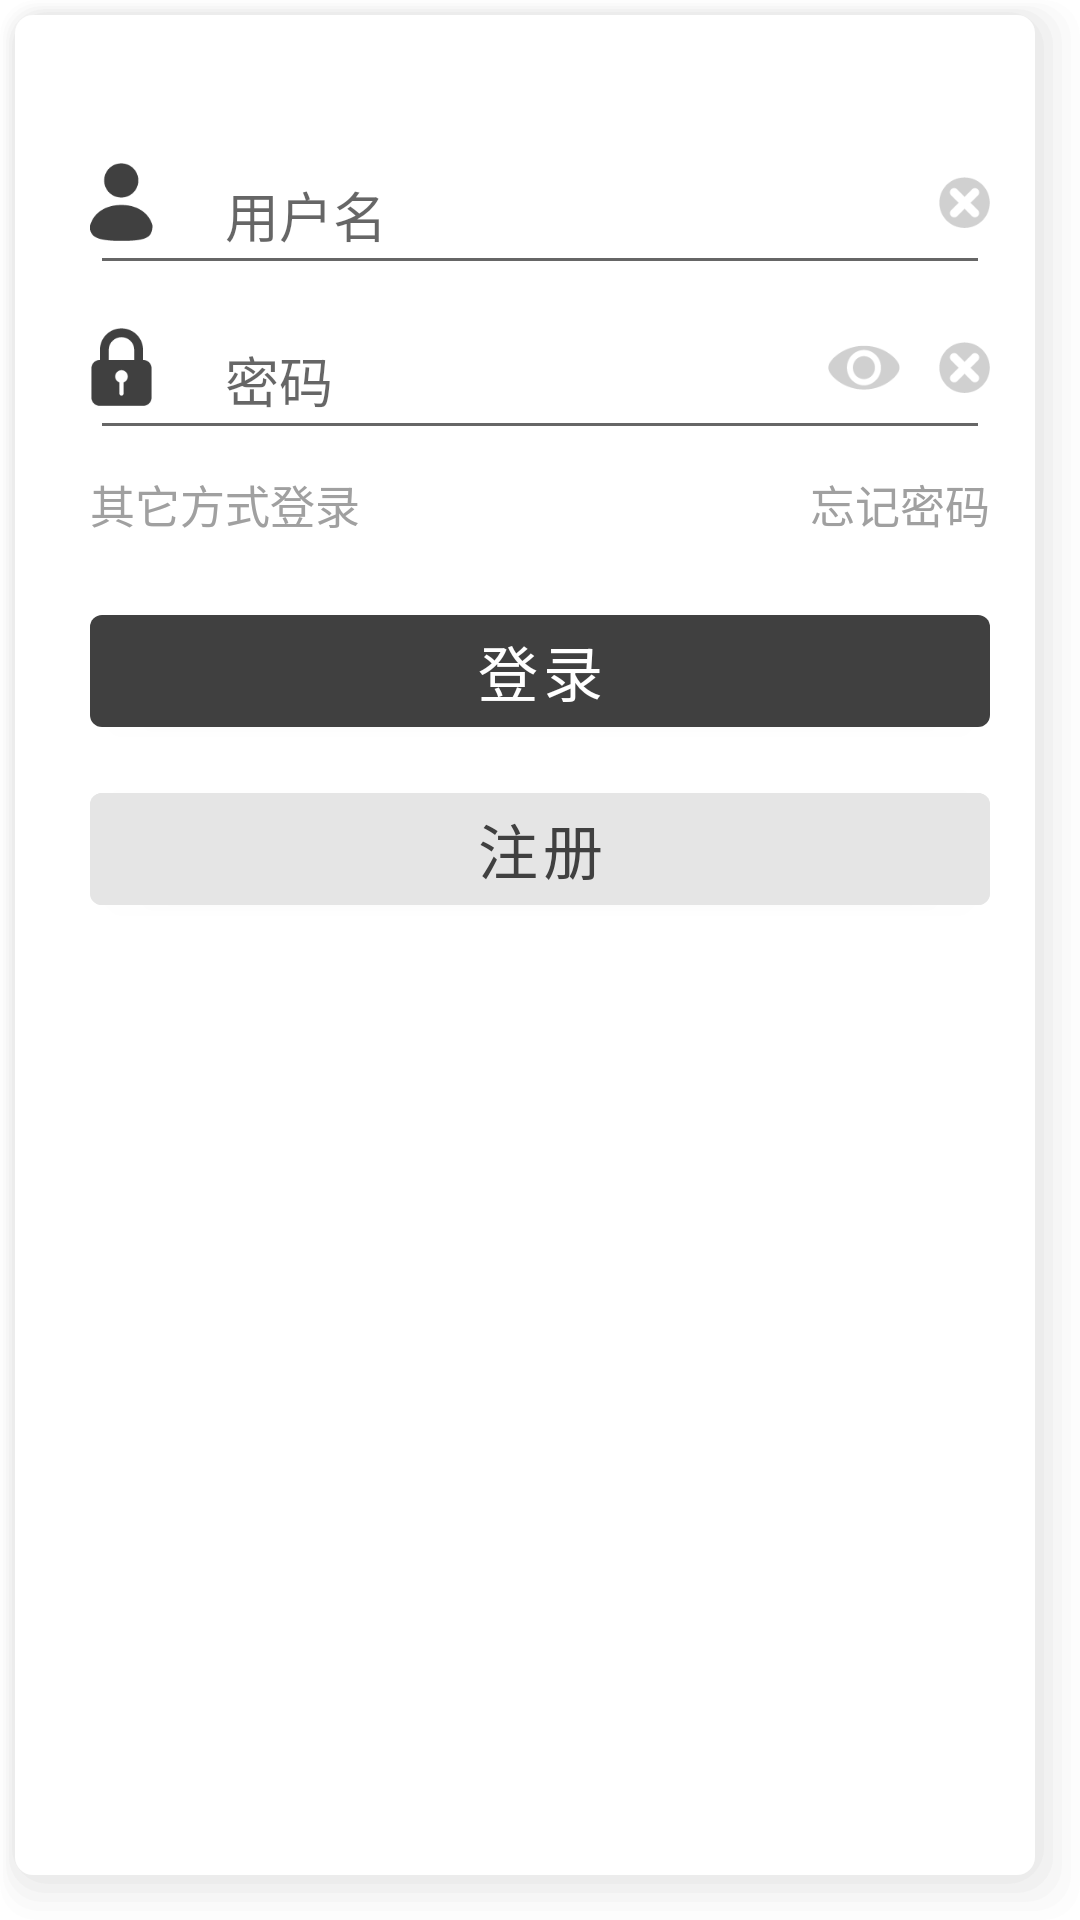

Named icons in this screenshot (1080 x 1920) and their bounding boxes, (x1, y1, x2, y2):
cancel: (939, 177, 990, 228), (939, 342, 990, 393)
login lock: (91, 328, 152, 406)
login user: (90, 163, 153, 241)
password eye: (828, 346, 899, 390)
